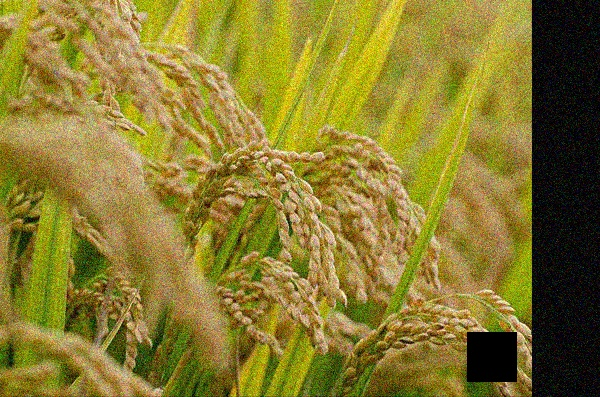rice: (177, 136, 346, 293), (341, 286, 528, 389), (184, 251, 332, 365)
